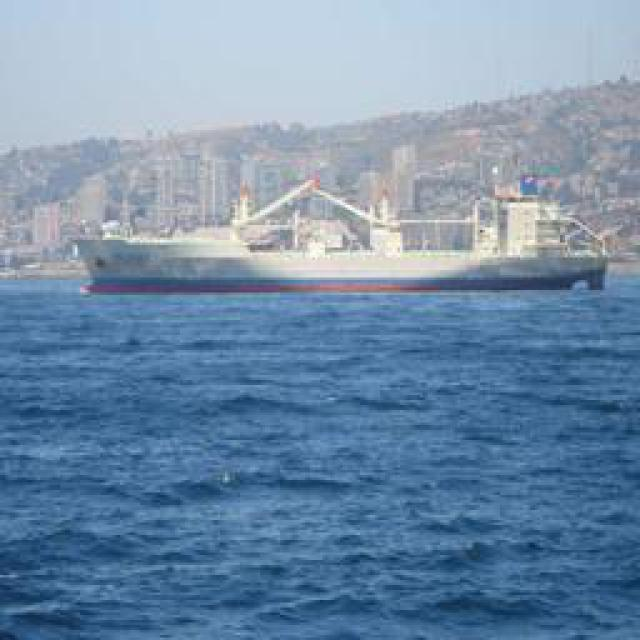Ship: (74, 200, 607, 298)
